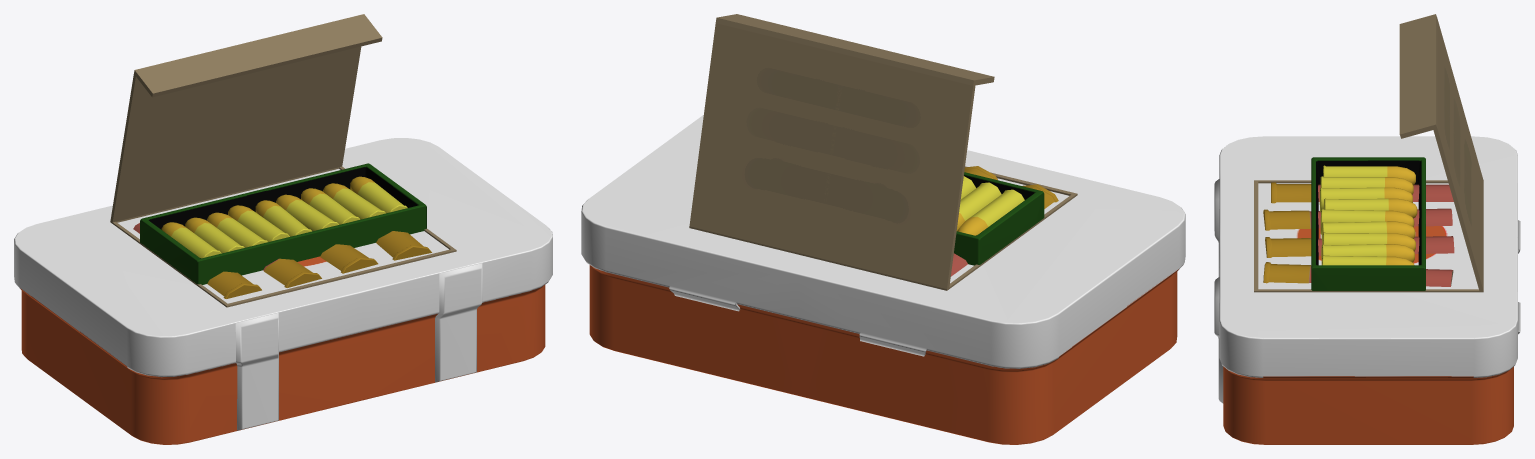
Rendered from drop.glb.
The picture shows the model from 3 angles, left to right: view 1: azimuth 30°, elevation 25°; view 2: azimuth 150°, elevation 25°; view 3: azimuth 270°, elevation 25°; orthographic projection. The views are drawn at different scales.
Visible parts, largest first — view 1: Health, Shot, Bullet; view 2: Health, Shot, Bullet; view 3: Health, Shot, Bullet.
Boxes of the visible parts, x1,y1,x2,y2 form: Health: (14,138,552,444); Shot: (110,14,456,307); Bullet: (140,163,426,284); Health: (581,115,1185,444); Shot: (689,14,1077,290); Bullet: (954,172,1044,265); Health: (1214,136,1520,444); Shot: (1254,14,1483,292); Bullet: (1311,157,1425,290).
Bounding box in the file's own units: 0.8167 × 0.5229 × 0.5221.
3 materials, 3 textured.
